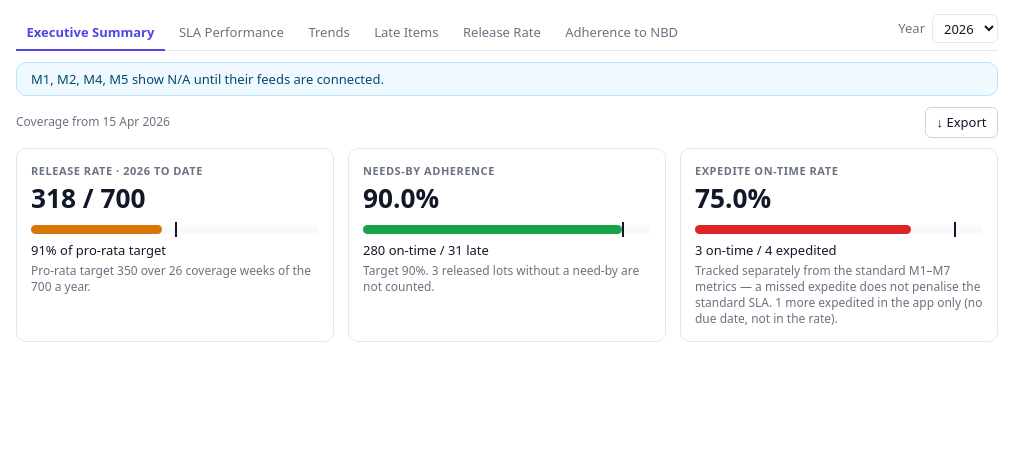
Test: F20: a tab click changes the tab in the URL and the year is disabled where it does not apply
expect the element with test id "card-release" is shown: met, box [16,148,334,342]
What coordinates should you click on to do the following:
click the tab with test id "reports-tab-late"
I would click on:
 (406, 34)
Its box is [364,16,449,51].
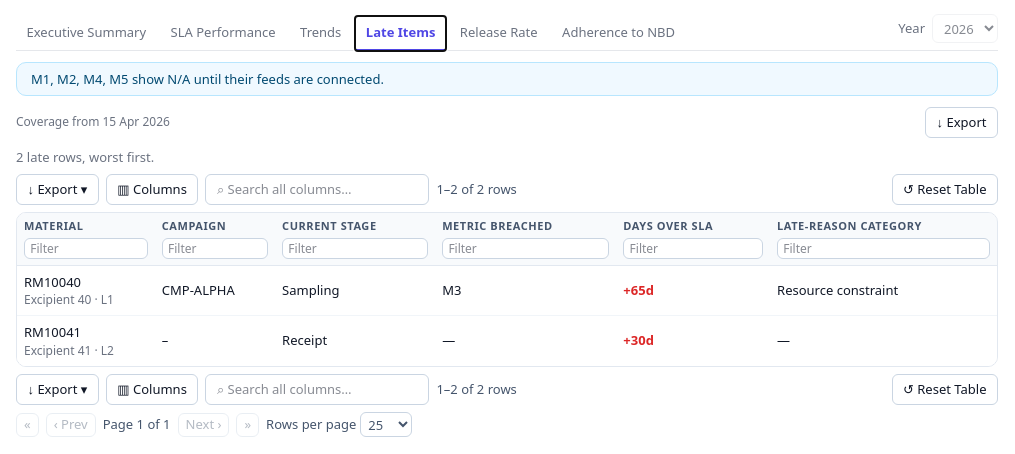
expect the element with test id "report-late" is shown: met
expect the dropdown with test id "reports-year" is disabled: met, box [932,14,998,43]
What coordinates should you click on to do the following:
click the tab with test id "reports-tab-adherence"
I would click on:
 (619, 34)
Its box is [552,16,686,51].
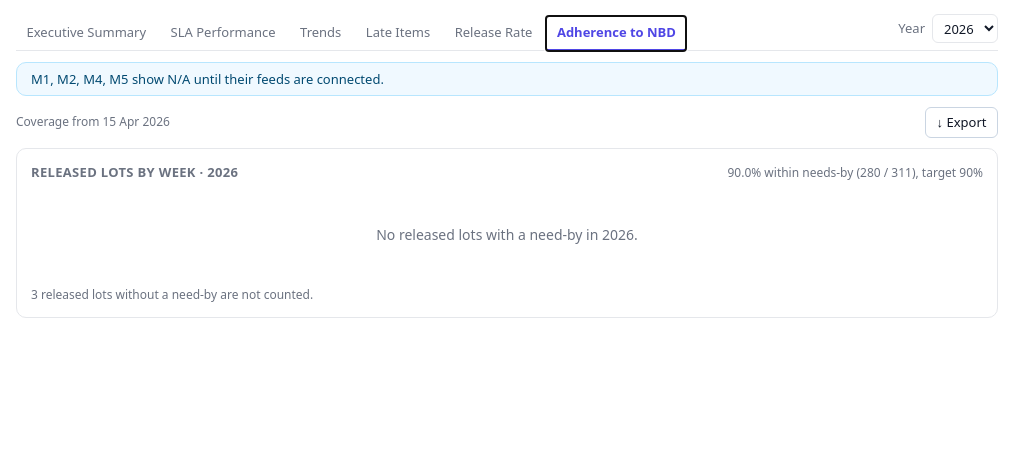
expect the dropdown with test id "reports-year" is enabled: met, box [932,14,998,43]
